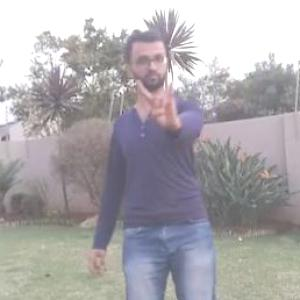takeoff-hand: (131, 74, 192, 135)
